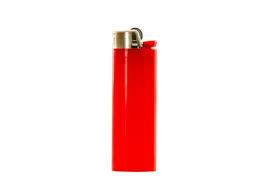lighter: (112, 25, 159, 172)
